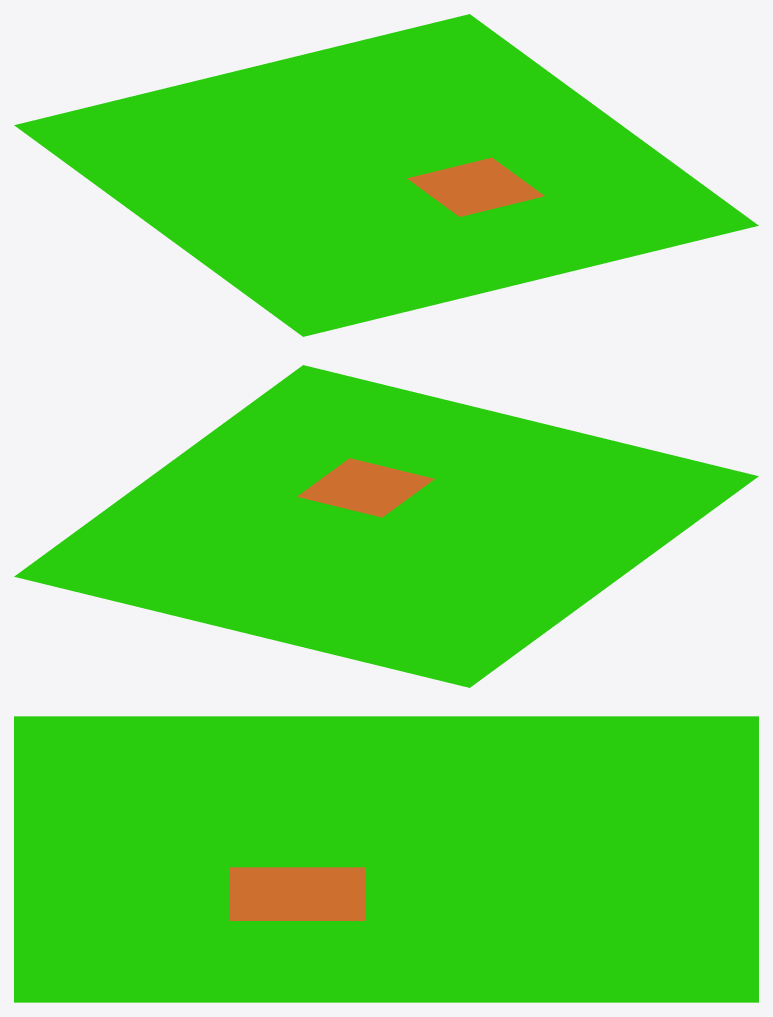
The model's file is GRASS.glb.
3 views of the same model, one above another, from view 1: azimuth 30°, elevation 25°; view 2: azimuth 150°, elevation 25°; view 3: azimuth 270°, elevation 25° (orthographic). The views are drawn at different scales.
Visible parts, largest first — view 1: GRASS; view 2: GRASS; view 3: GRASS.
Boxes of the visible parts, x1,y1,x2,y2 form: GRASS: (14,14,758,336); GRASS: (14,365,758,687); GRASS: (14,716,758,1002).
Size of the model in its own units: 8.66 by 0 by 9.52.
